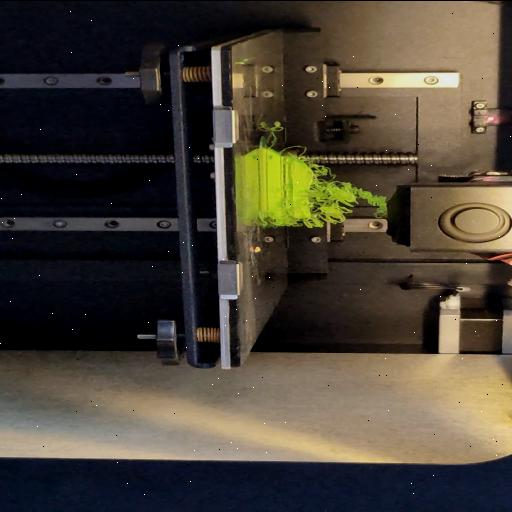spaghetti: (305, 161, 393, 229), (260, 216, 300, 228), (268, 117, 282, 149), (280, 142, 308, 156)
